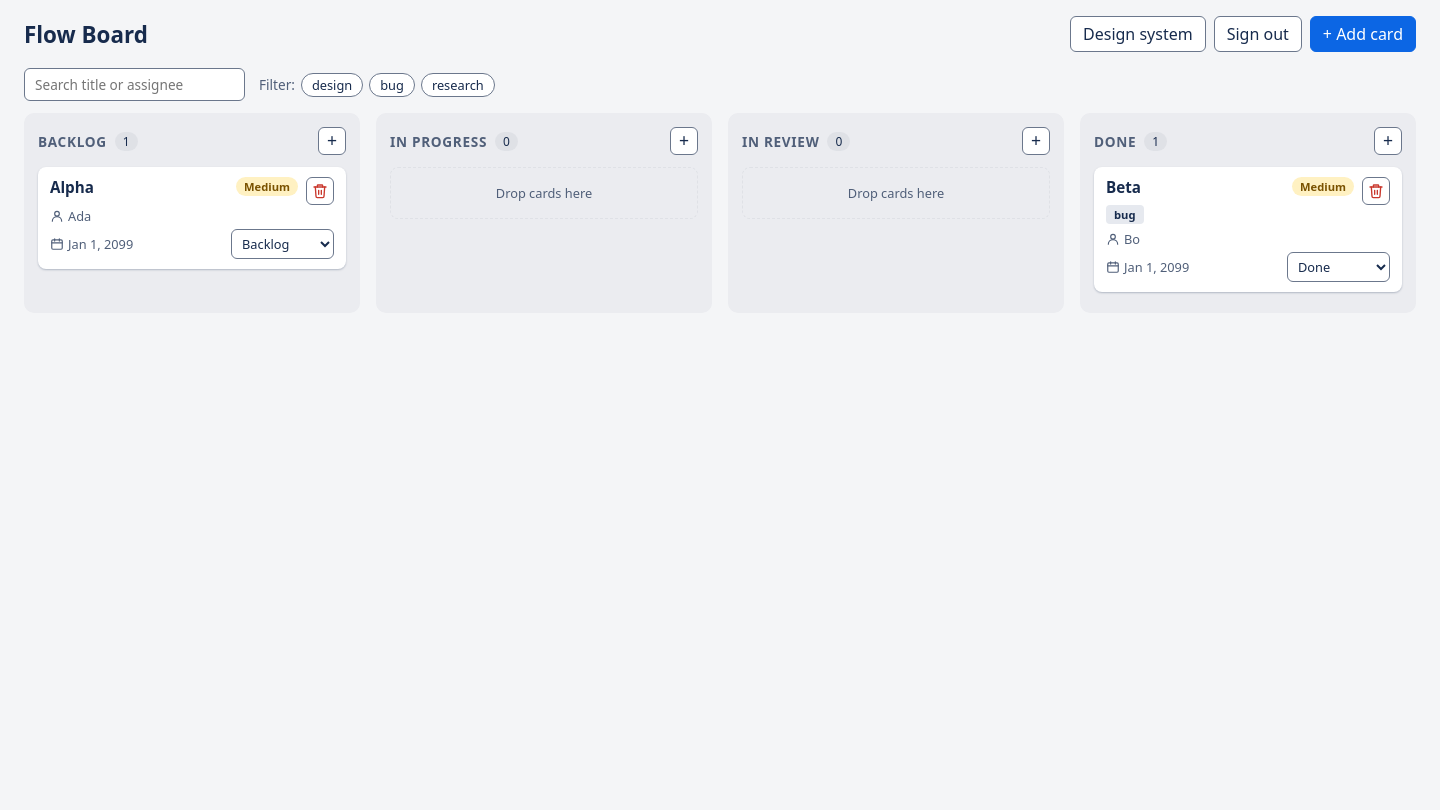
creating a card › REGRESSION: keeps the modal and the typed input open when the save fails
The width and height of the screenshot is (1440, 810).
Expected: the button "Alpha" is shown, x1=50 y1=177 x2=94 y2=197
Step 1. Click the button "+ Add card" → (1363, 34), box x1=1310 y1=16 x2=1416 y2=52
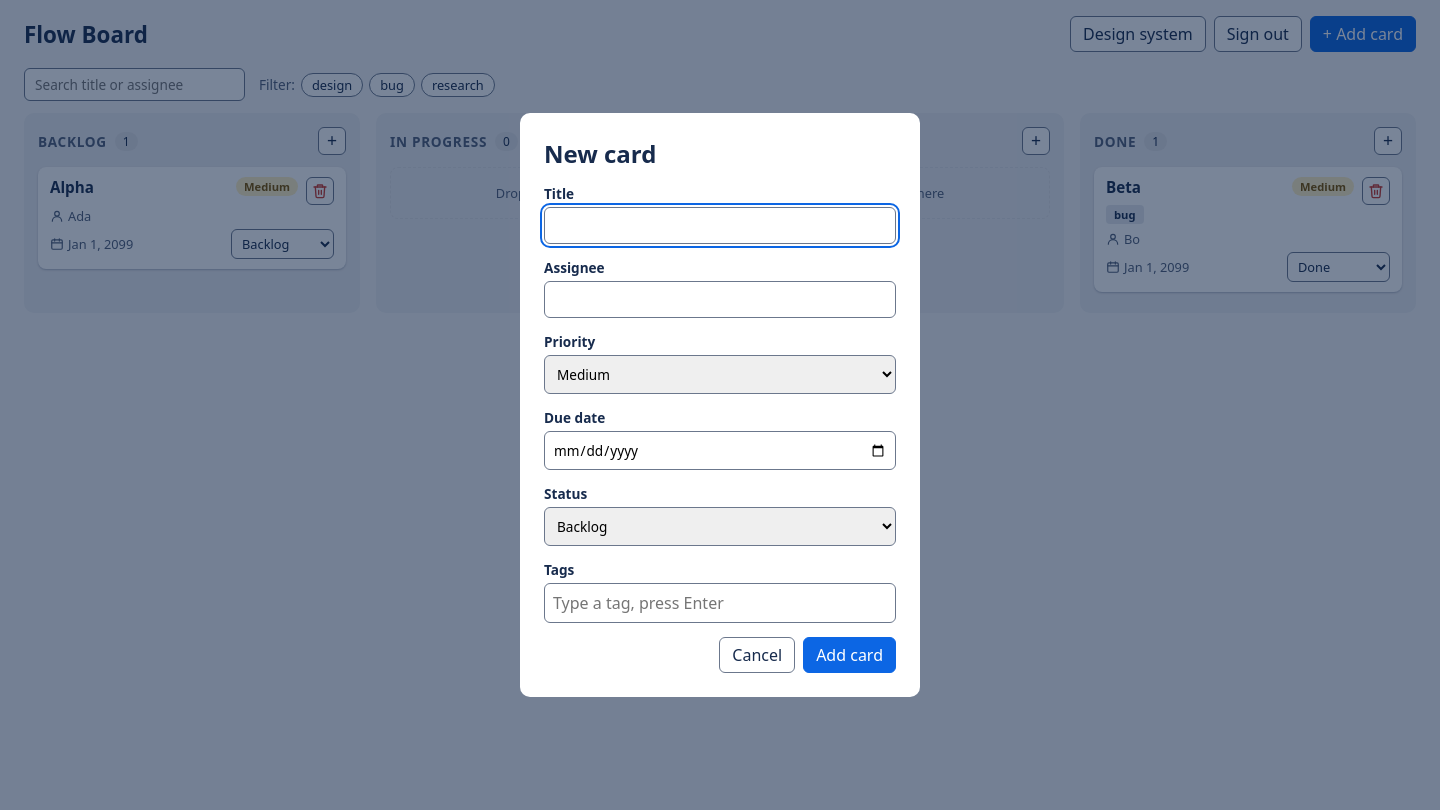
Step 2. Type "Keep me" into the field labelled "Title" → (720, 226), box x1=544 y1=207 x2=896 y2=244
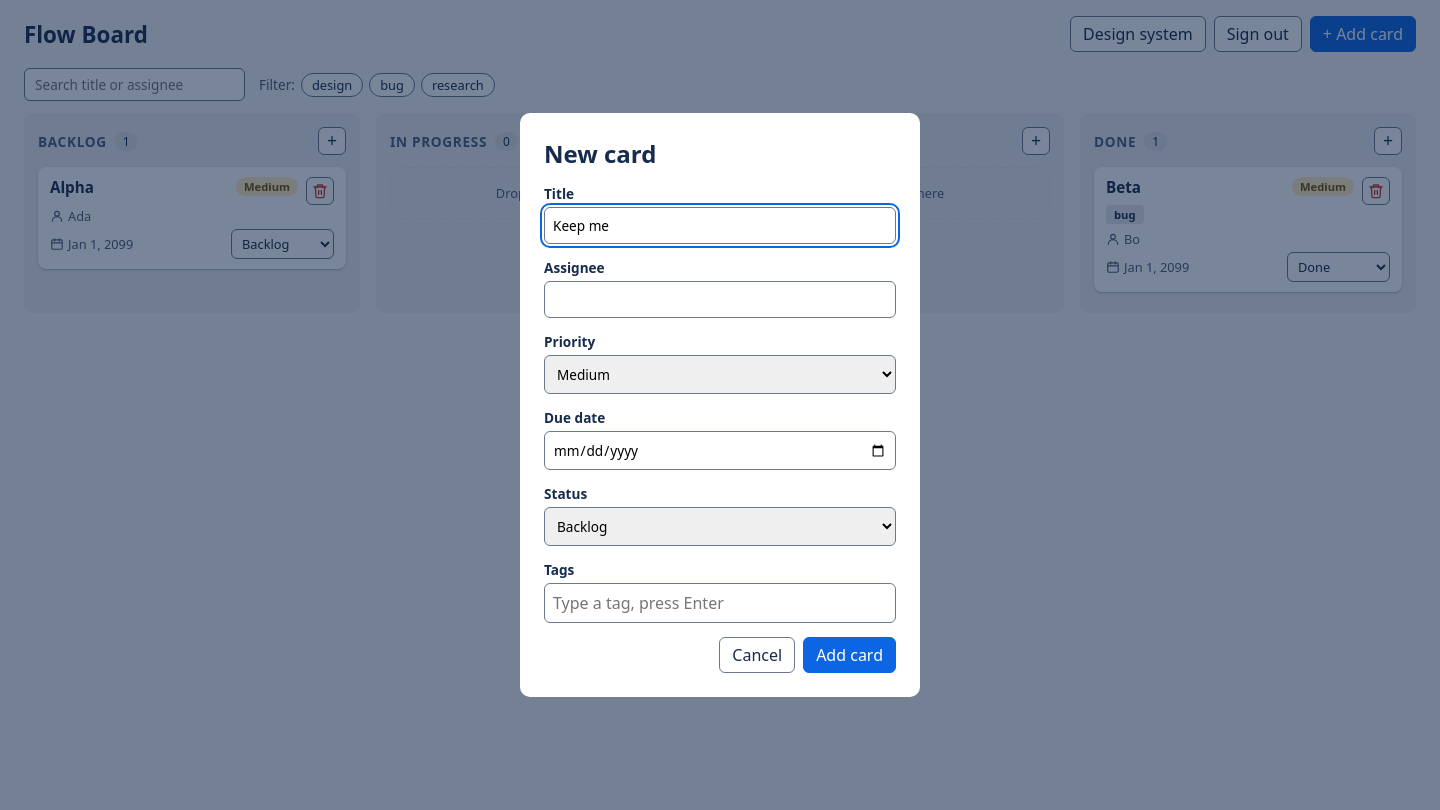
Step 3. Type "Ada" into the field labelled "Assignee" → (720, 300), box x1=544 y1=281 x2=896 y2=318
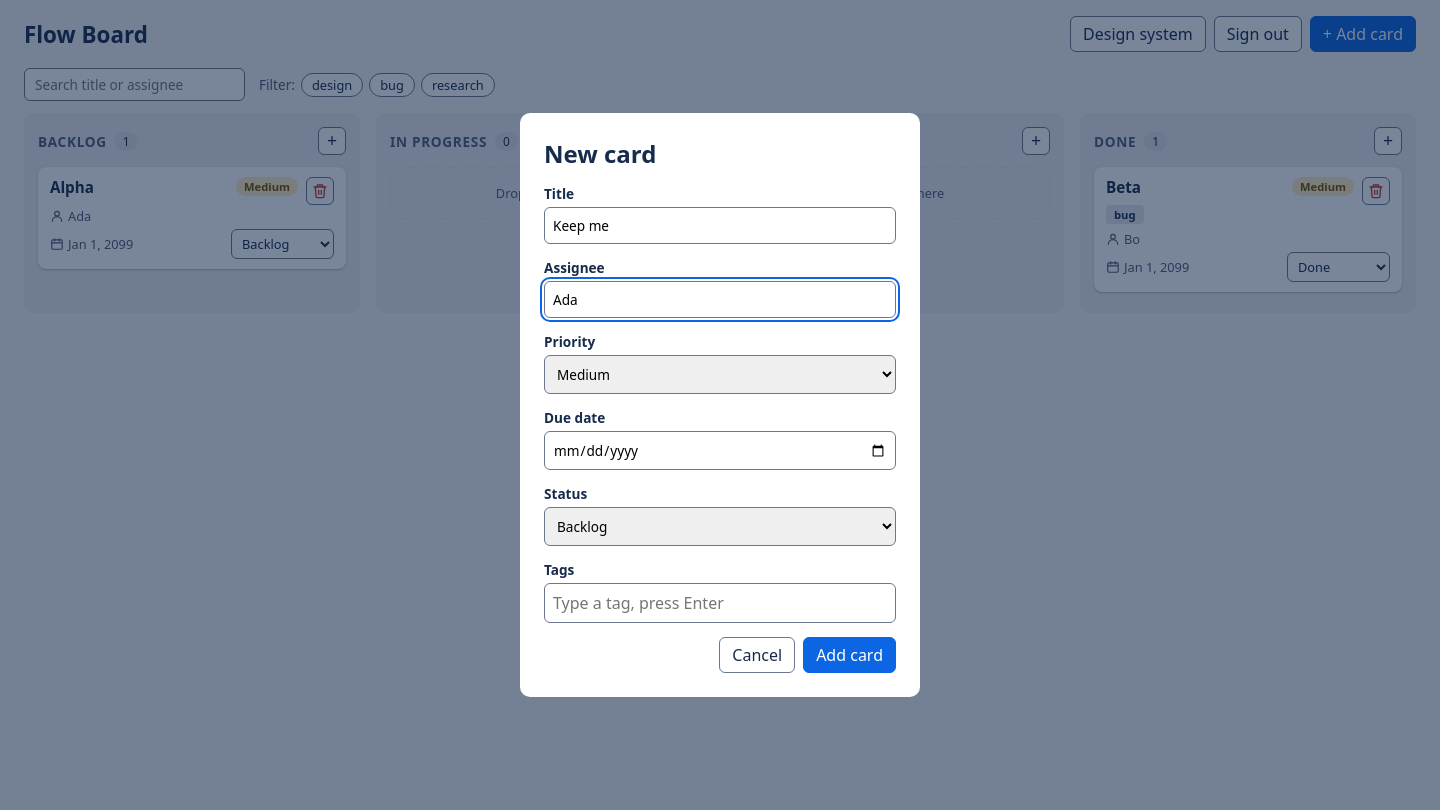
Step 4. Type "2099-01-01" into the date field labelled "Due date" → (720, 450), box x1=544 y1=431 x2=896 y2=470
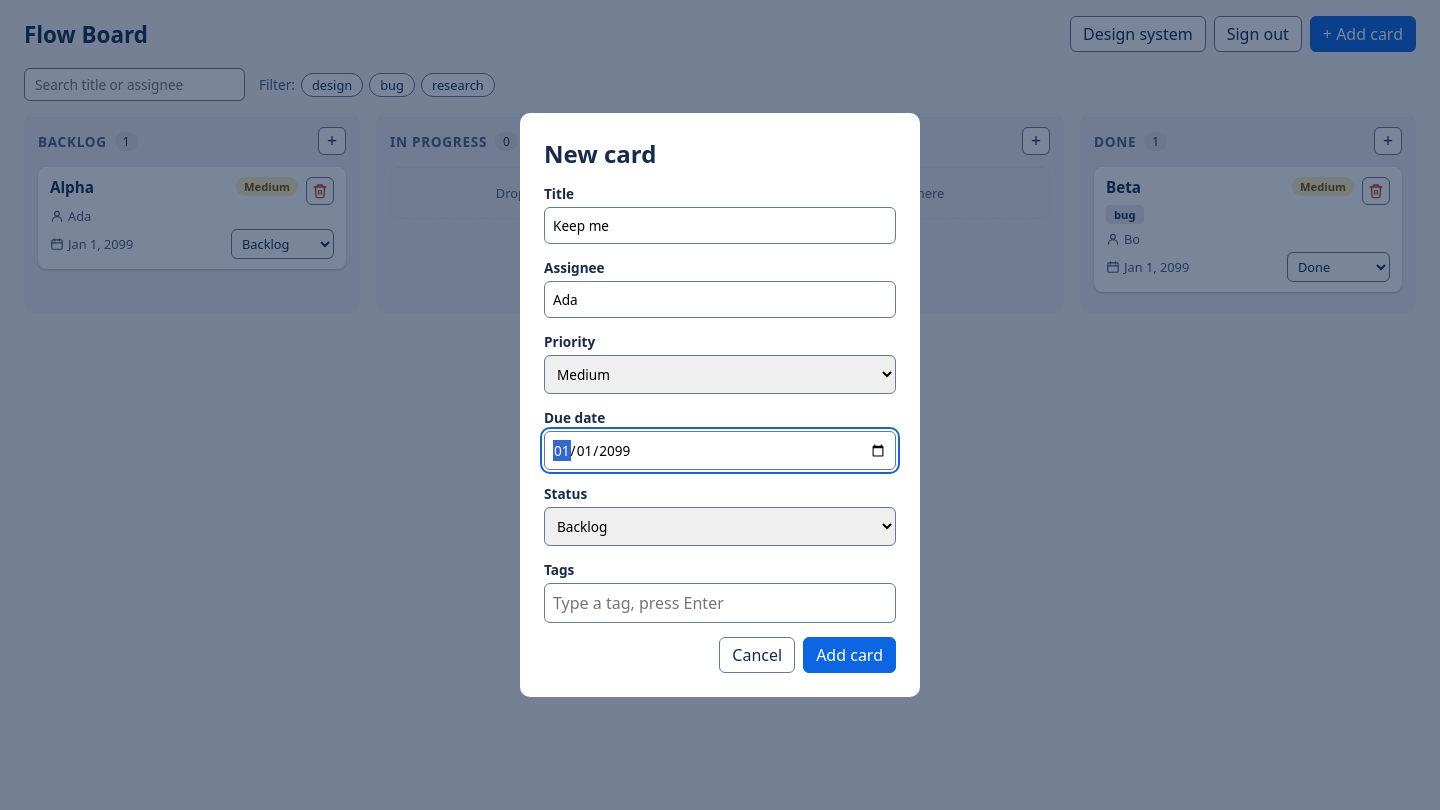
Step 5. Click the button "Add card" → (850, 655), box x1=803 y1=637 x2=896 y2=673
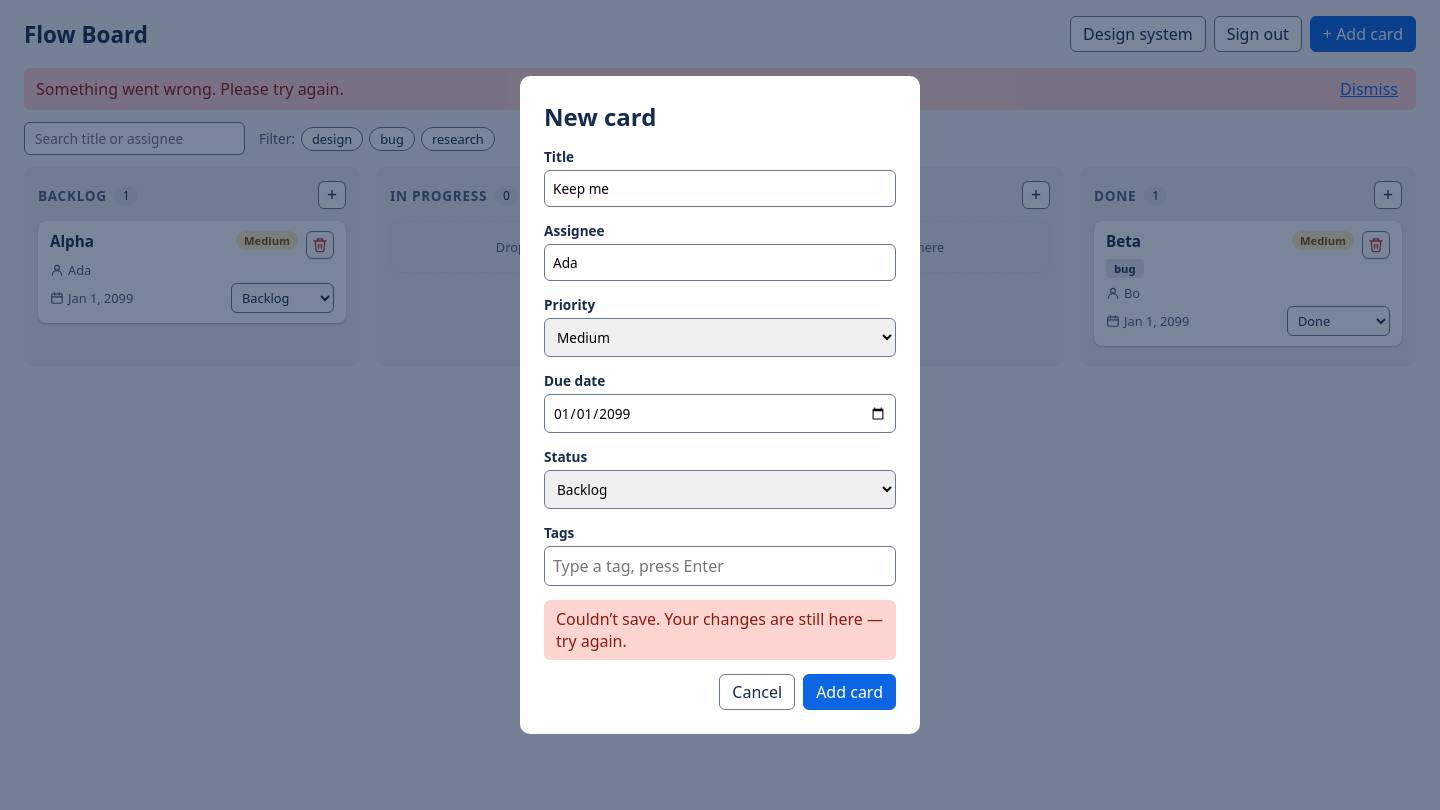
Result: the dialog is shown at x1=520 y1=76 x2=920 y2=734
Result: the button "Add card" is enabled at x1=803 y1=674 x2=896 y2=710
Result: the text "Couldn’t save. Your changes are still here — try again." is shown at x1=544 y1=600 x2=896 y2=660
